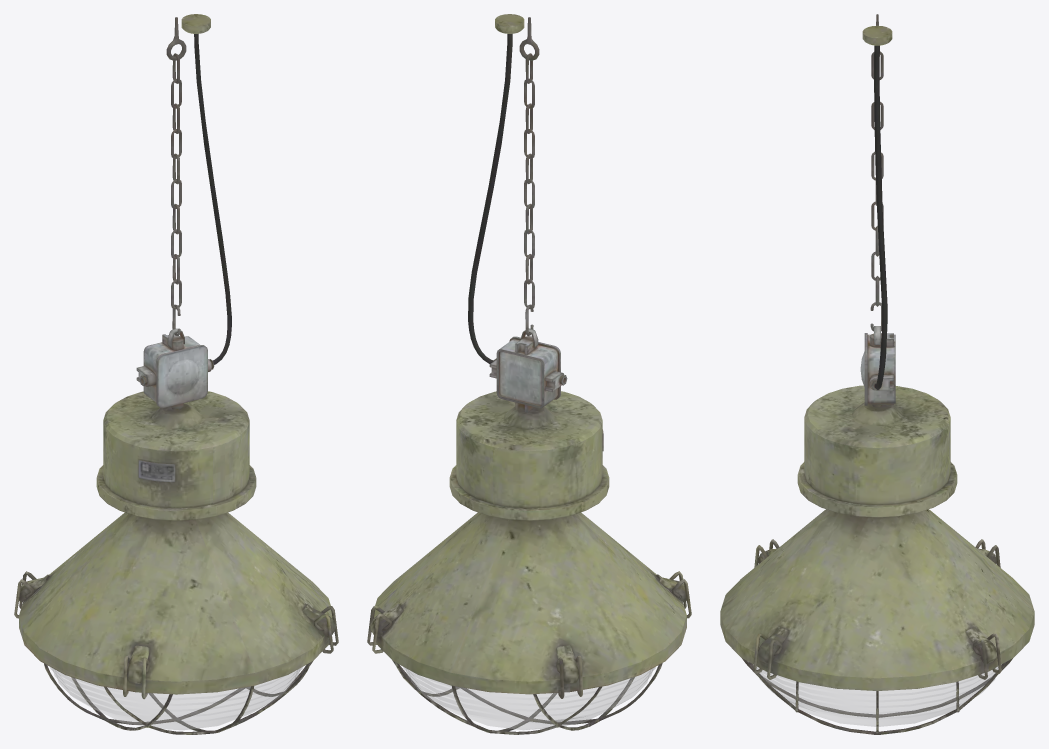
Rendered from hanging_industrial_lamp.glb.
The picture shows the model from 3 angles, left to right: view 1: azimuth 30°, elevation 25°; view 2: azimuth 150°, elevation 25°; view 3: azimuth 270°, elevation 25°; orthographic projection.
Parts seen in each view (by area): view 1: hanging_industrial_lamp; view 2: hanging_industrial_lamp; view 3: hanging_industrial_lamp.
Part boxes in pixels (<box>): hanging_industrial_lamp: <box>14,14,338,734</box>; hanging_industrial_lamp: <box>367,14,691,734</box>; hanging_industrial_lamp: <box>720,14,1034,734</box>.
Bounding box in the file's own units: 0.5497 × 1.36 × 0.5497.
2 materials, 1 textured.
